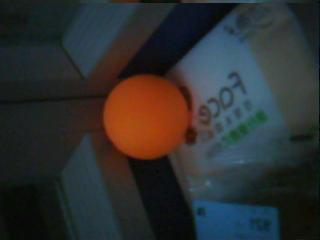oball: (103, 74, 188, 159)
